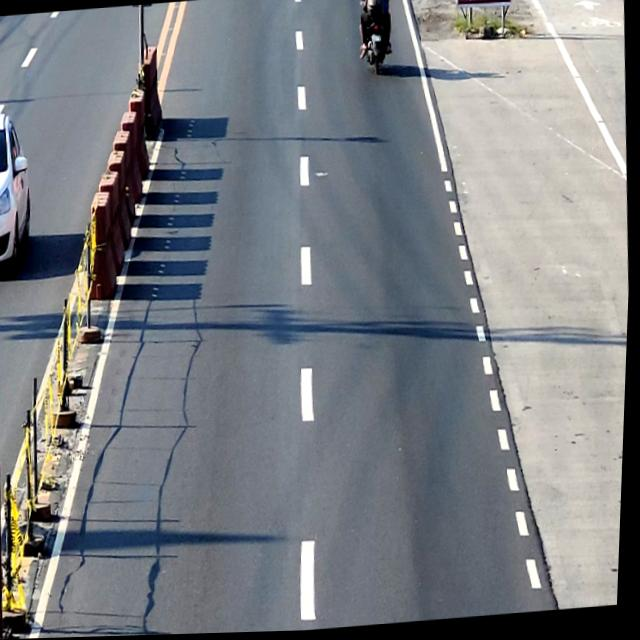Car: (0, 109, 39, 273)
License-Plate: (371, 37, 383, 45)
Motorcycle: (355, 0, 394, 78)
